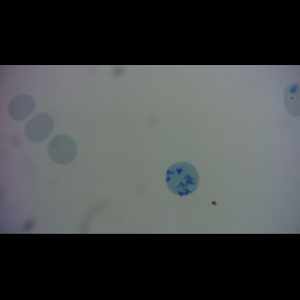aggregate reticulocyte: (164, 161, 201, 197)
erythrocyte: (23, 112, 55, 143), (6, 93, 37, 122)
punctate reticulocyte: (46, 133, 79, 166)
